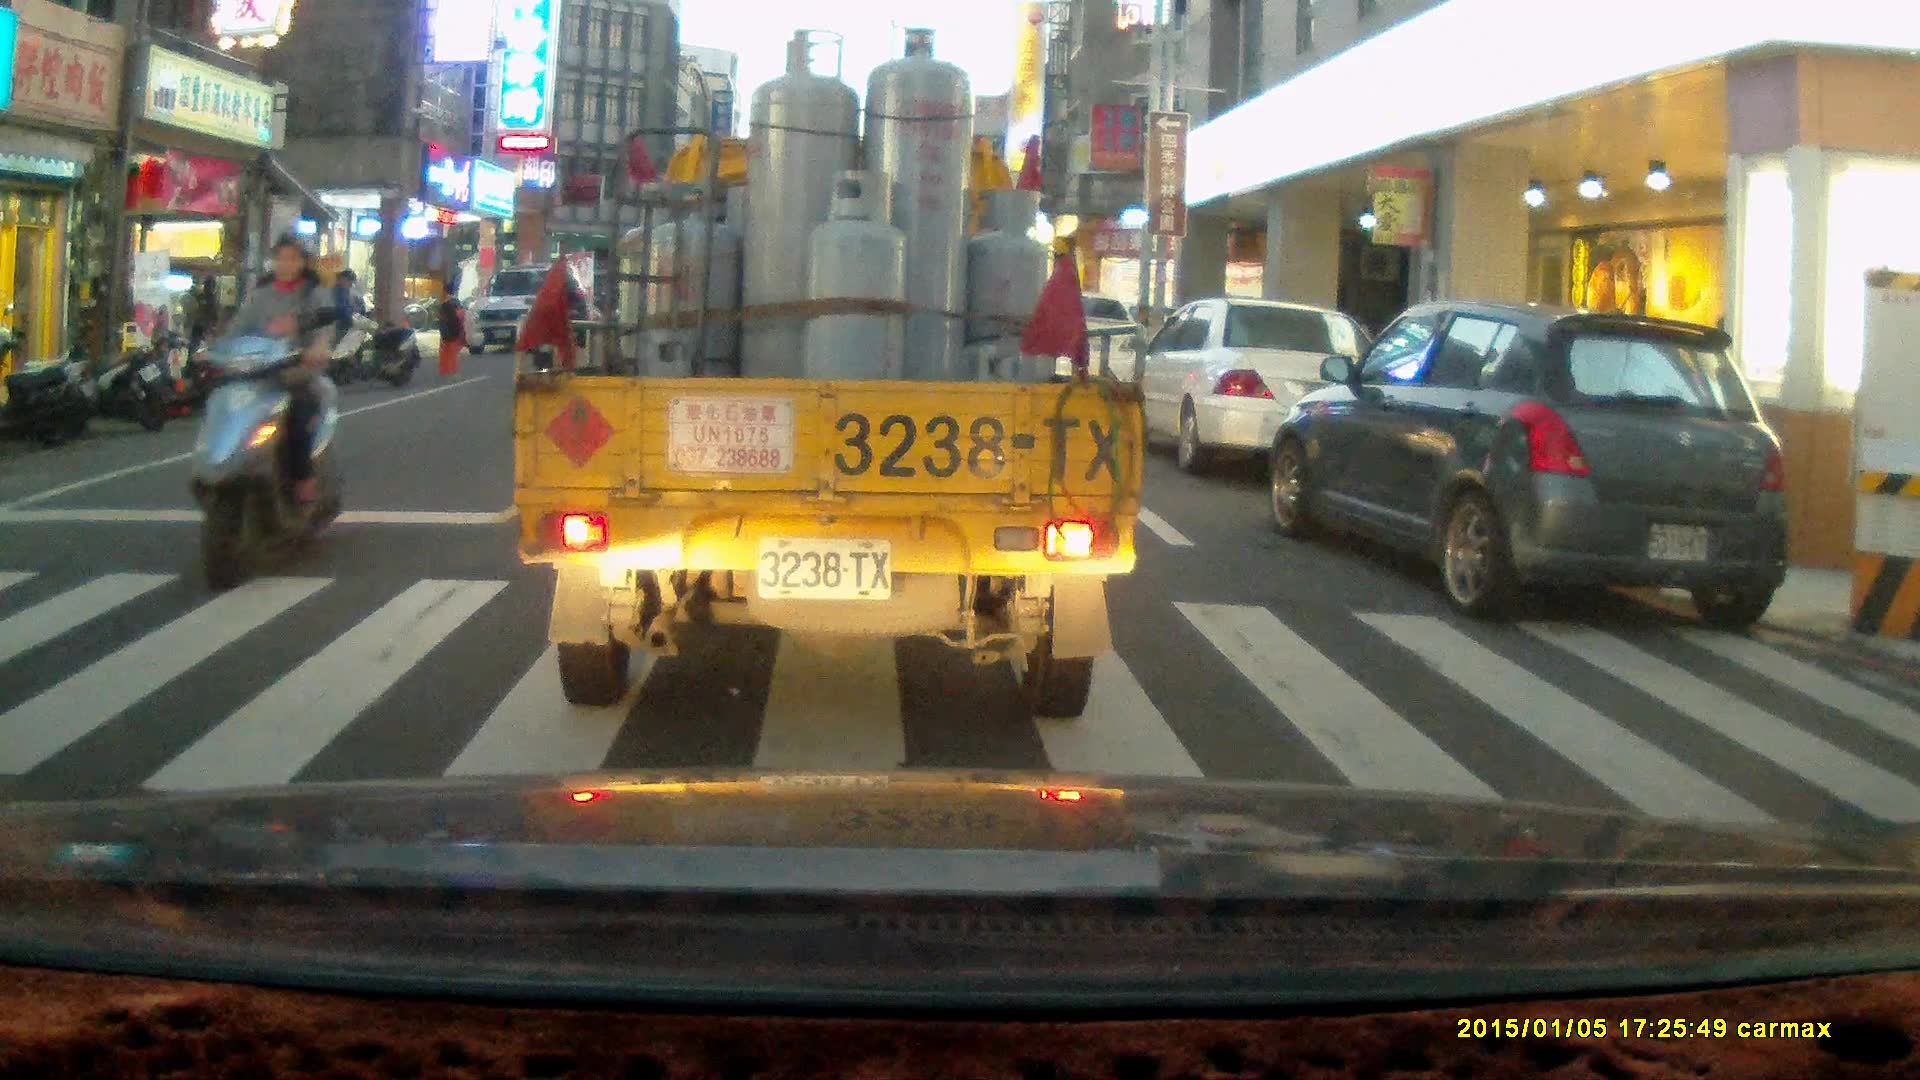pedestrian: (433, 276, 476, 377), (324, 266, 360, 379), (179, 275, 213, 381)
rider: (188, 224, 346, 595)
vehicle: (518, 61, 1137, 721), (1268, 302, 1796, 630), (1135, 300, 1381, 480), (1026, 295, 1160, 413), (464, 269, 584, 362)
